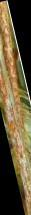Wheat: (1, 18, 20, 98)
